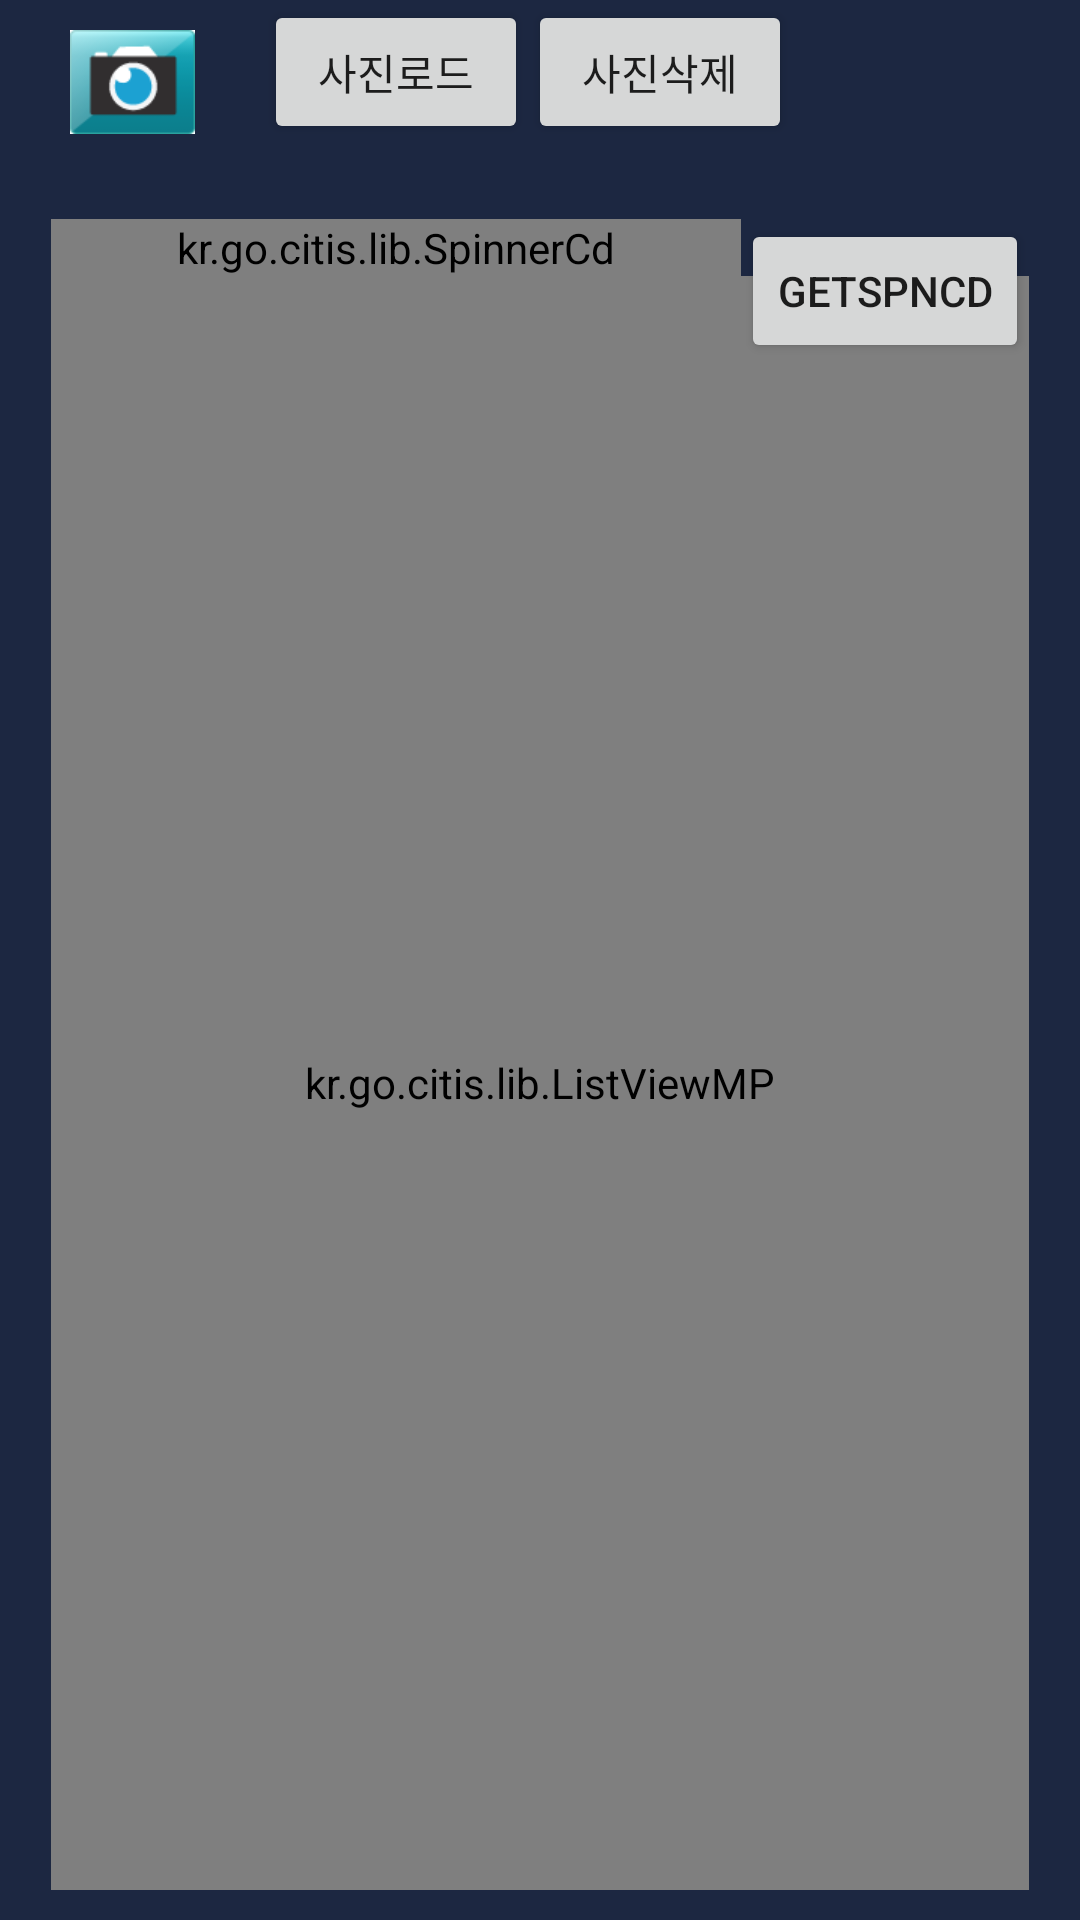

Where icons sit on this 1080 × 1920 app screen, as (x1=x1, y1=y1, x2=x2, y2=y2):
camera: (x1=70, y1=30, x2=195, y2=134)
